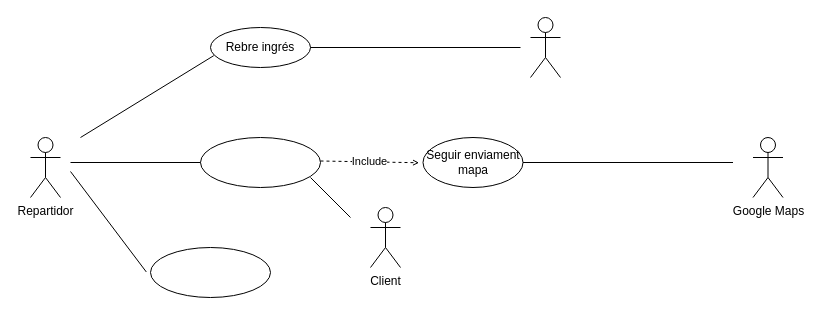
Image size: 821x315. Some labels were removed from this diagram. The box of each missing label's shape, as (x1, y1, x2, y2) in pixels:
Actualizar estat comanda: (200, 136, 320, 188)
Confirmar recollida/entrega: (150, 246, 270, 298)
Targeta Bancària / PayPal: (530, 16, 560, 78)
